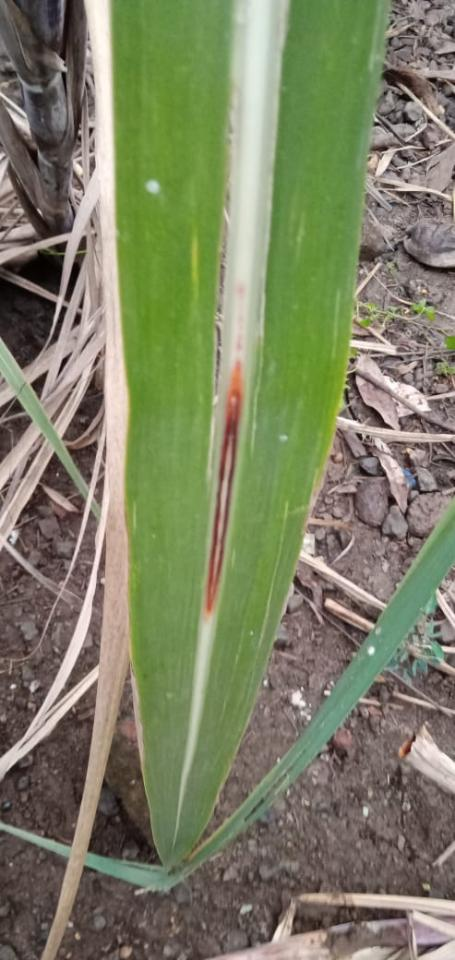RedRot: (203, 352, 247, 622)
